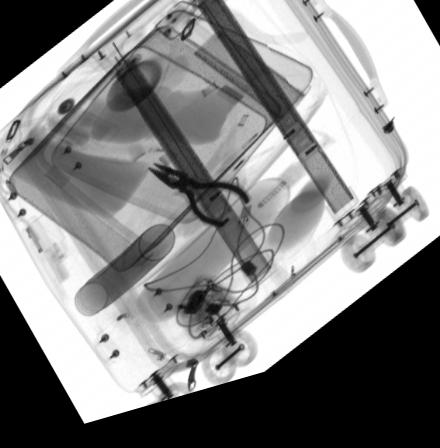Pliers: (147, 169, 252, 239)
